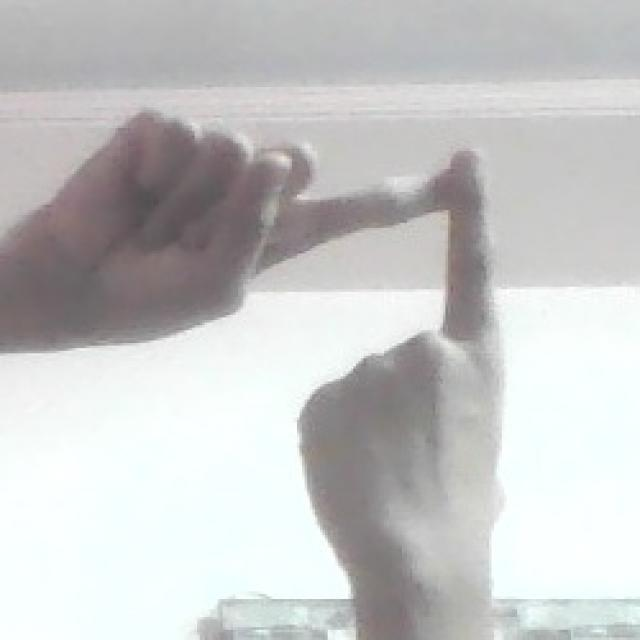Alphabet-E: (62, 97, 507, 637)
